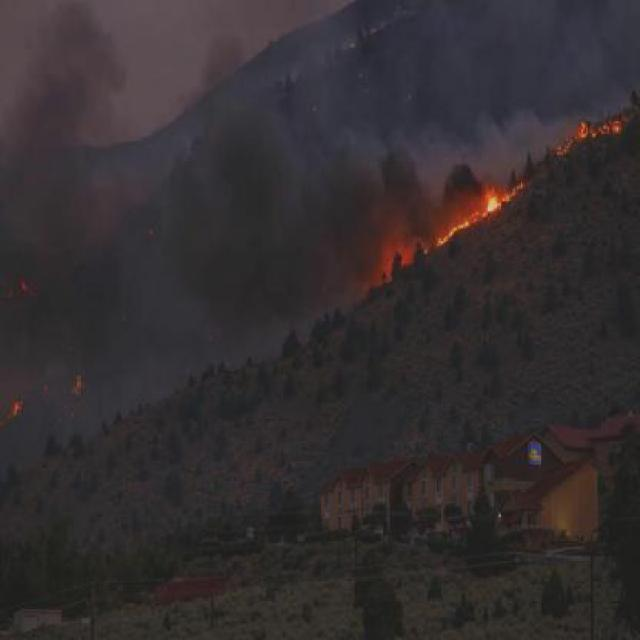Fire: (558, 119, 622, 152), (482, 182, 524, 218), (381, 232, 417, 271), (436, 220, 470, 245), (361, 268, 392, 287), (70, 373, 84, 395), (11, 400, 20, 418)
